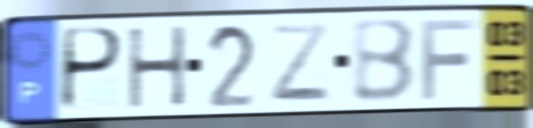2: (205, 21, 262, 110)
B: (349, 16, 419, 106)
F: (418, 16, 480, 103)
H: (124, 22, 190, 112)
P: (57, 25, 126, 114)
Z: (269, 20, 333, 104)
